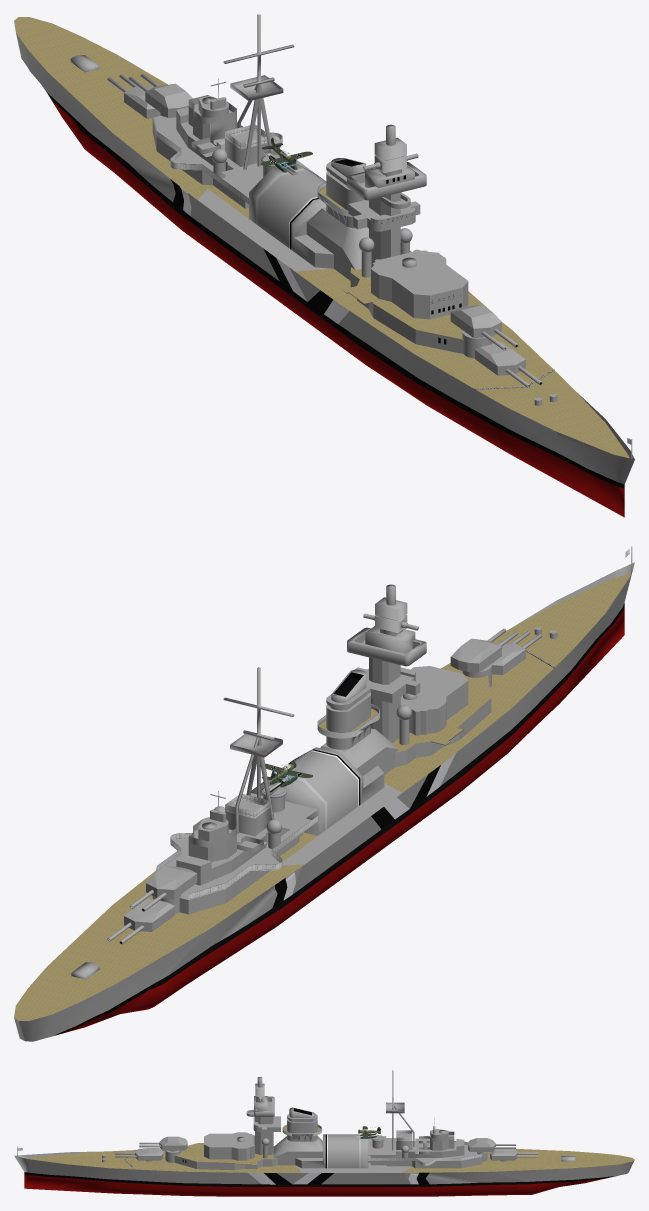
File: Prinz Eugen.dae
3 views of the same model, one above another, from view 1: azimuth 30°, elevation 25°; view 2: azimuth 150°, elevation 25°; view 3: azimuth 270°, elevation 25° (orthographic). The views are drawn at different scales.
Parts seen in each view (by area): view 1: ShipStructure, Hull, Cannon_1 (×2), Cannon_2, Cannon_2_2; view 2: ShipStructure, Hull, Cannon_1 (×2), Cannon_2_2, Cannon_2; view 3: ShipStructure, Hull, Cannon_1 (×2), Cannon_2, Cannon_2_2.
Part boxes in pixels (x1,y1,x2,y2): ShipStructure: (14, 14, 632, 458); Hull: (16, 33, 634, 517); Cannon_1 (×2): (107, 74, 542, 387); Cannon_2: (450, 305, 518, 350); Cannon_2_2: (128, 73, 192, 117); ShipStructure: (14, 546, 632, 1020); Hull: (14, 562, 634, 1041); Cannon_1 (×2): (107, 631, 542, 944); Cannon_2_2: (129, 866, 197, 911); Cannon_2: (450, 628, 518, 672); ShipStructure: (17, 1070, 634, 1172); Hull: (14, 1151, 634, 1196); Cannon_1 (×2): (115, 1148, 537, 1161); Cannon_2: (139, 1136, 187, 1151); Cannon_2_2: (468, 1138, 515, 1152).
Bounding box in the file's own units: 2200 × 21418 × 4551.
Materials: 20 (8 with a texture image).
